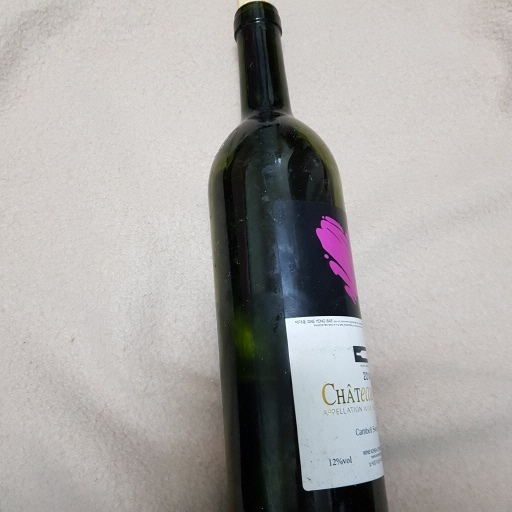Glass_2: (209, 1, 387, 512)
